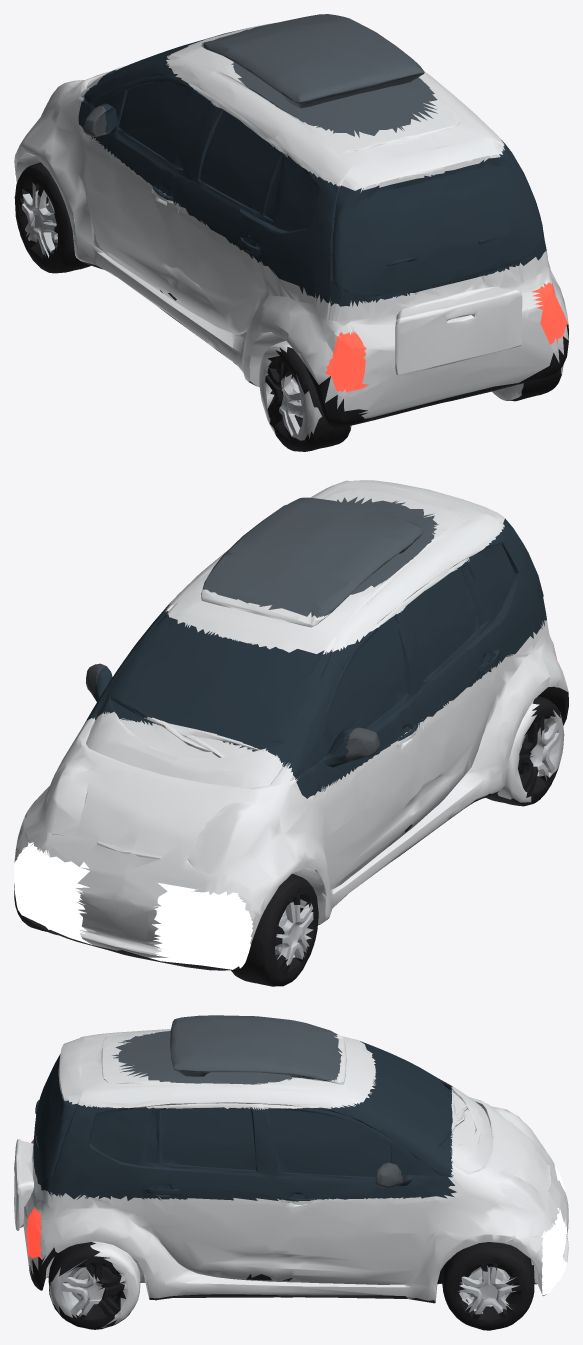
File: teleopVehRobotaxi.e8b4f052.glb
The picture shows the model from 3 angles, top to bottom: view 1: azimuth 30°, elevation 25°; view 2: azimuth 150°, elevation 25°; view 3: azimuth 270°, elevation 25°; orthographic projection. The views are drawn at different scales.
Bounding box in the file's own units: 0.9293 × 0.9414 × 1.9.
